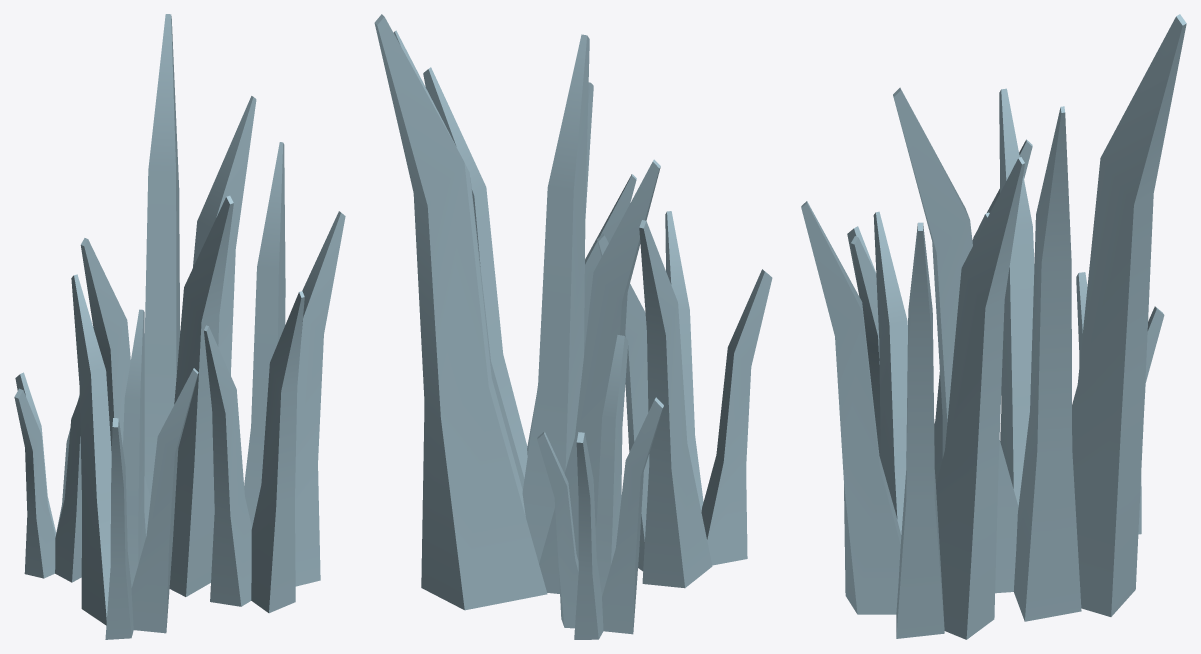
The model's file is Geo_GrassSnow.fbx.
3 renders of one model, left to right at view 1: azimuth 30°, elevation 25°; view 2: azimuth 150°, elevation 25°; view 3: azimuth 270°, elevation 25°, orthographic. The views are drawn at different scales.
Parts seen in each view (by area): view 1: Grass_Mesh1; view 2: Grass_Mesh1; view 3: Grass_Mesh1.
Boxes of the visible parts, <box> form: Grass_Mesh1: <box>14,14,345,639</box>; Grass_Mesh1: <box>374,14,772,639</box>; Grass_Mesh1: <box>801,14,1186,639</box>.
Bounding box in the file's own units: 19.55 × 34.97 × 20.2.
